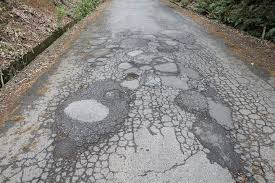pothole: (55, 80, 135, 159), (196, 134, 255, 183), (176, 89, 237, 132), (121, 61, 181, 78), (87, 36, 117, 65), (123, 36, 152, 56), (156, 36, 181, 53)
